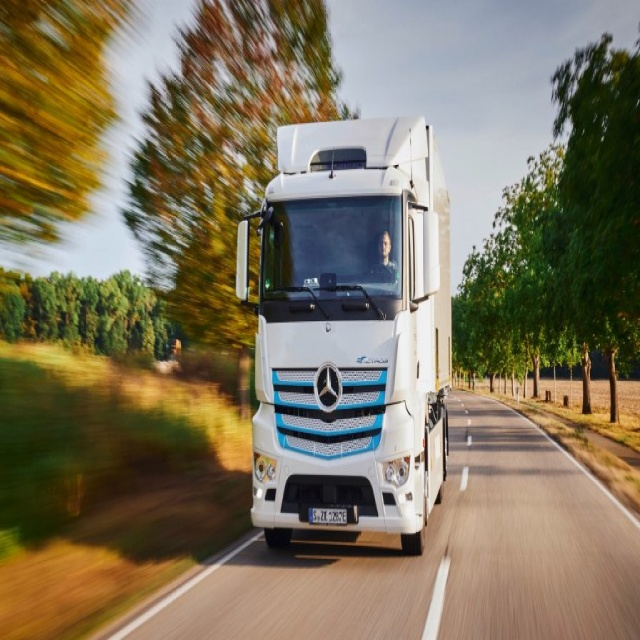truck: (234, 111, 454, 556)
